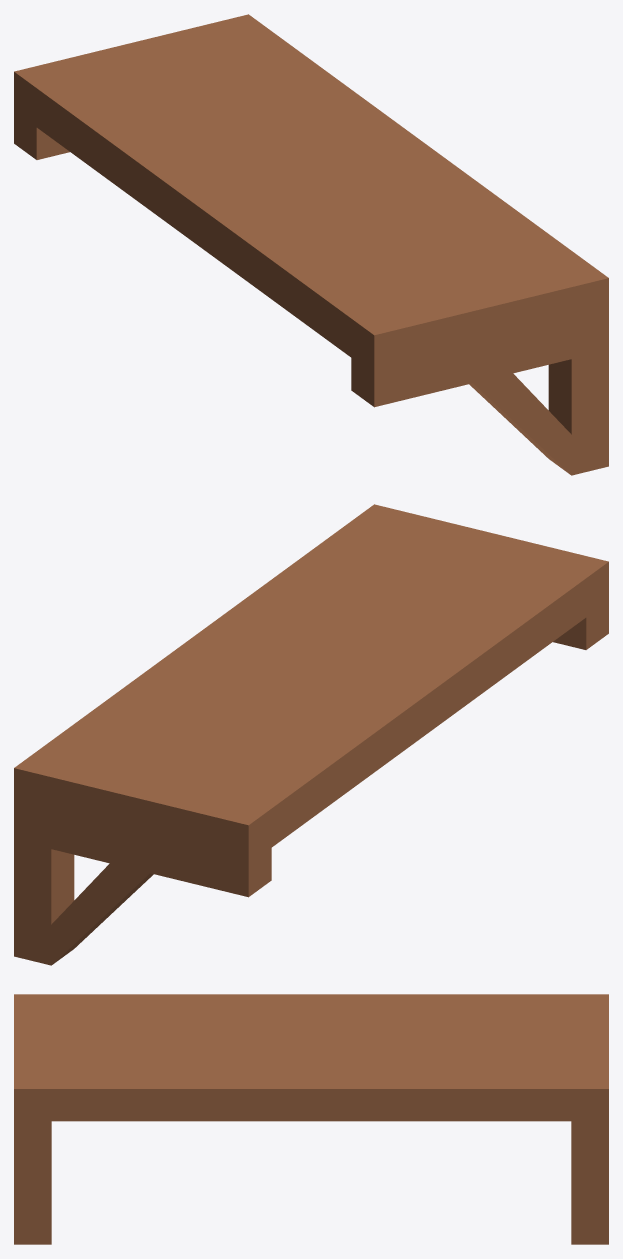
Rendered from shelf_wall3.fbx.
3 renders of one model, top to bottom at view 1: azimuth 30°, elevation 25°; view 2: azimuth 150°, elevation 25°; view 3: azimuth 270°, elevation 25°, orthographic. The views are drawn at different scales.
Visible parts, largest first — view 1: Cube; view 2: Cube; view 3: Cube.
Boxes of the visible parts, x1,y1,x2,y2 form: Cube: (14,14,608,475); Cube: (14,504,608,965); Cube: (14,994,608,1244).
Bounding box in the file's own units: 600 × 460 × 1595.
